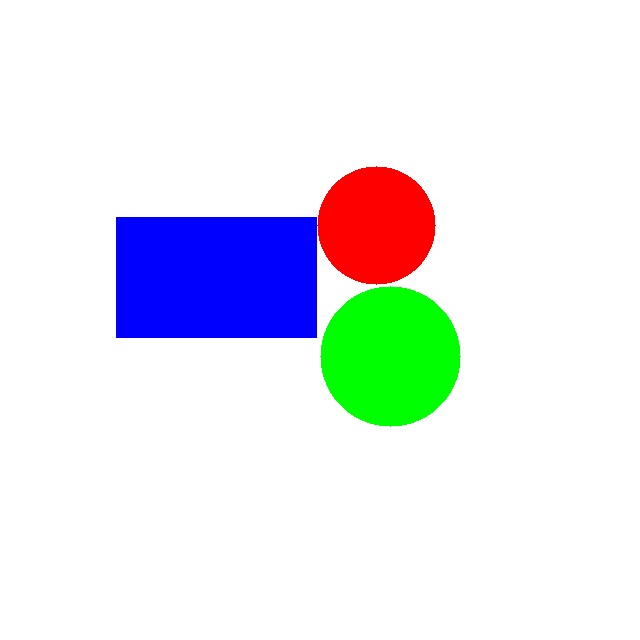cartao: (116, 217, 316, 337)
rosca_externa: (320, 286, 460, 426)
rosca_interna: (317, 166, 435, 284)
